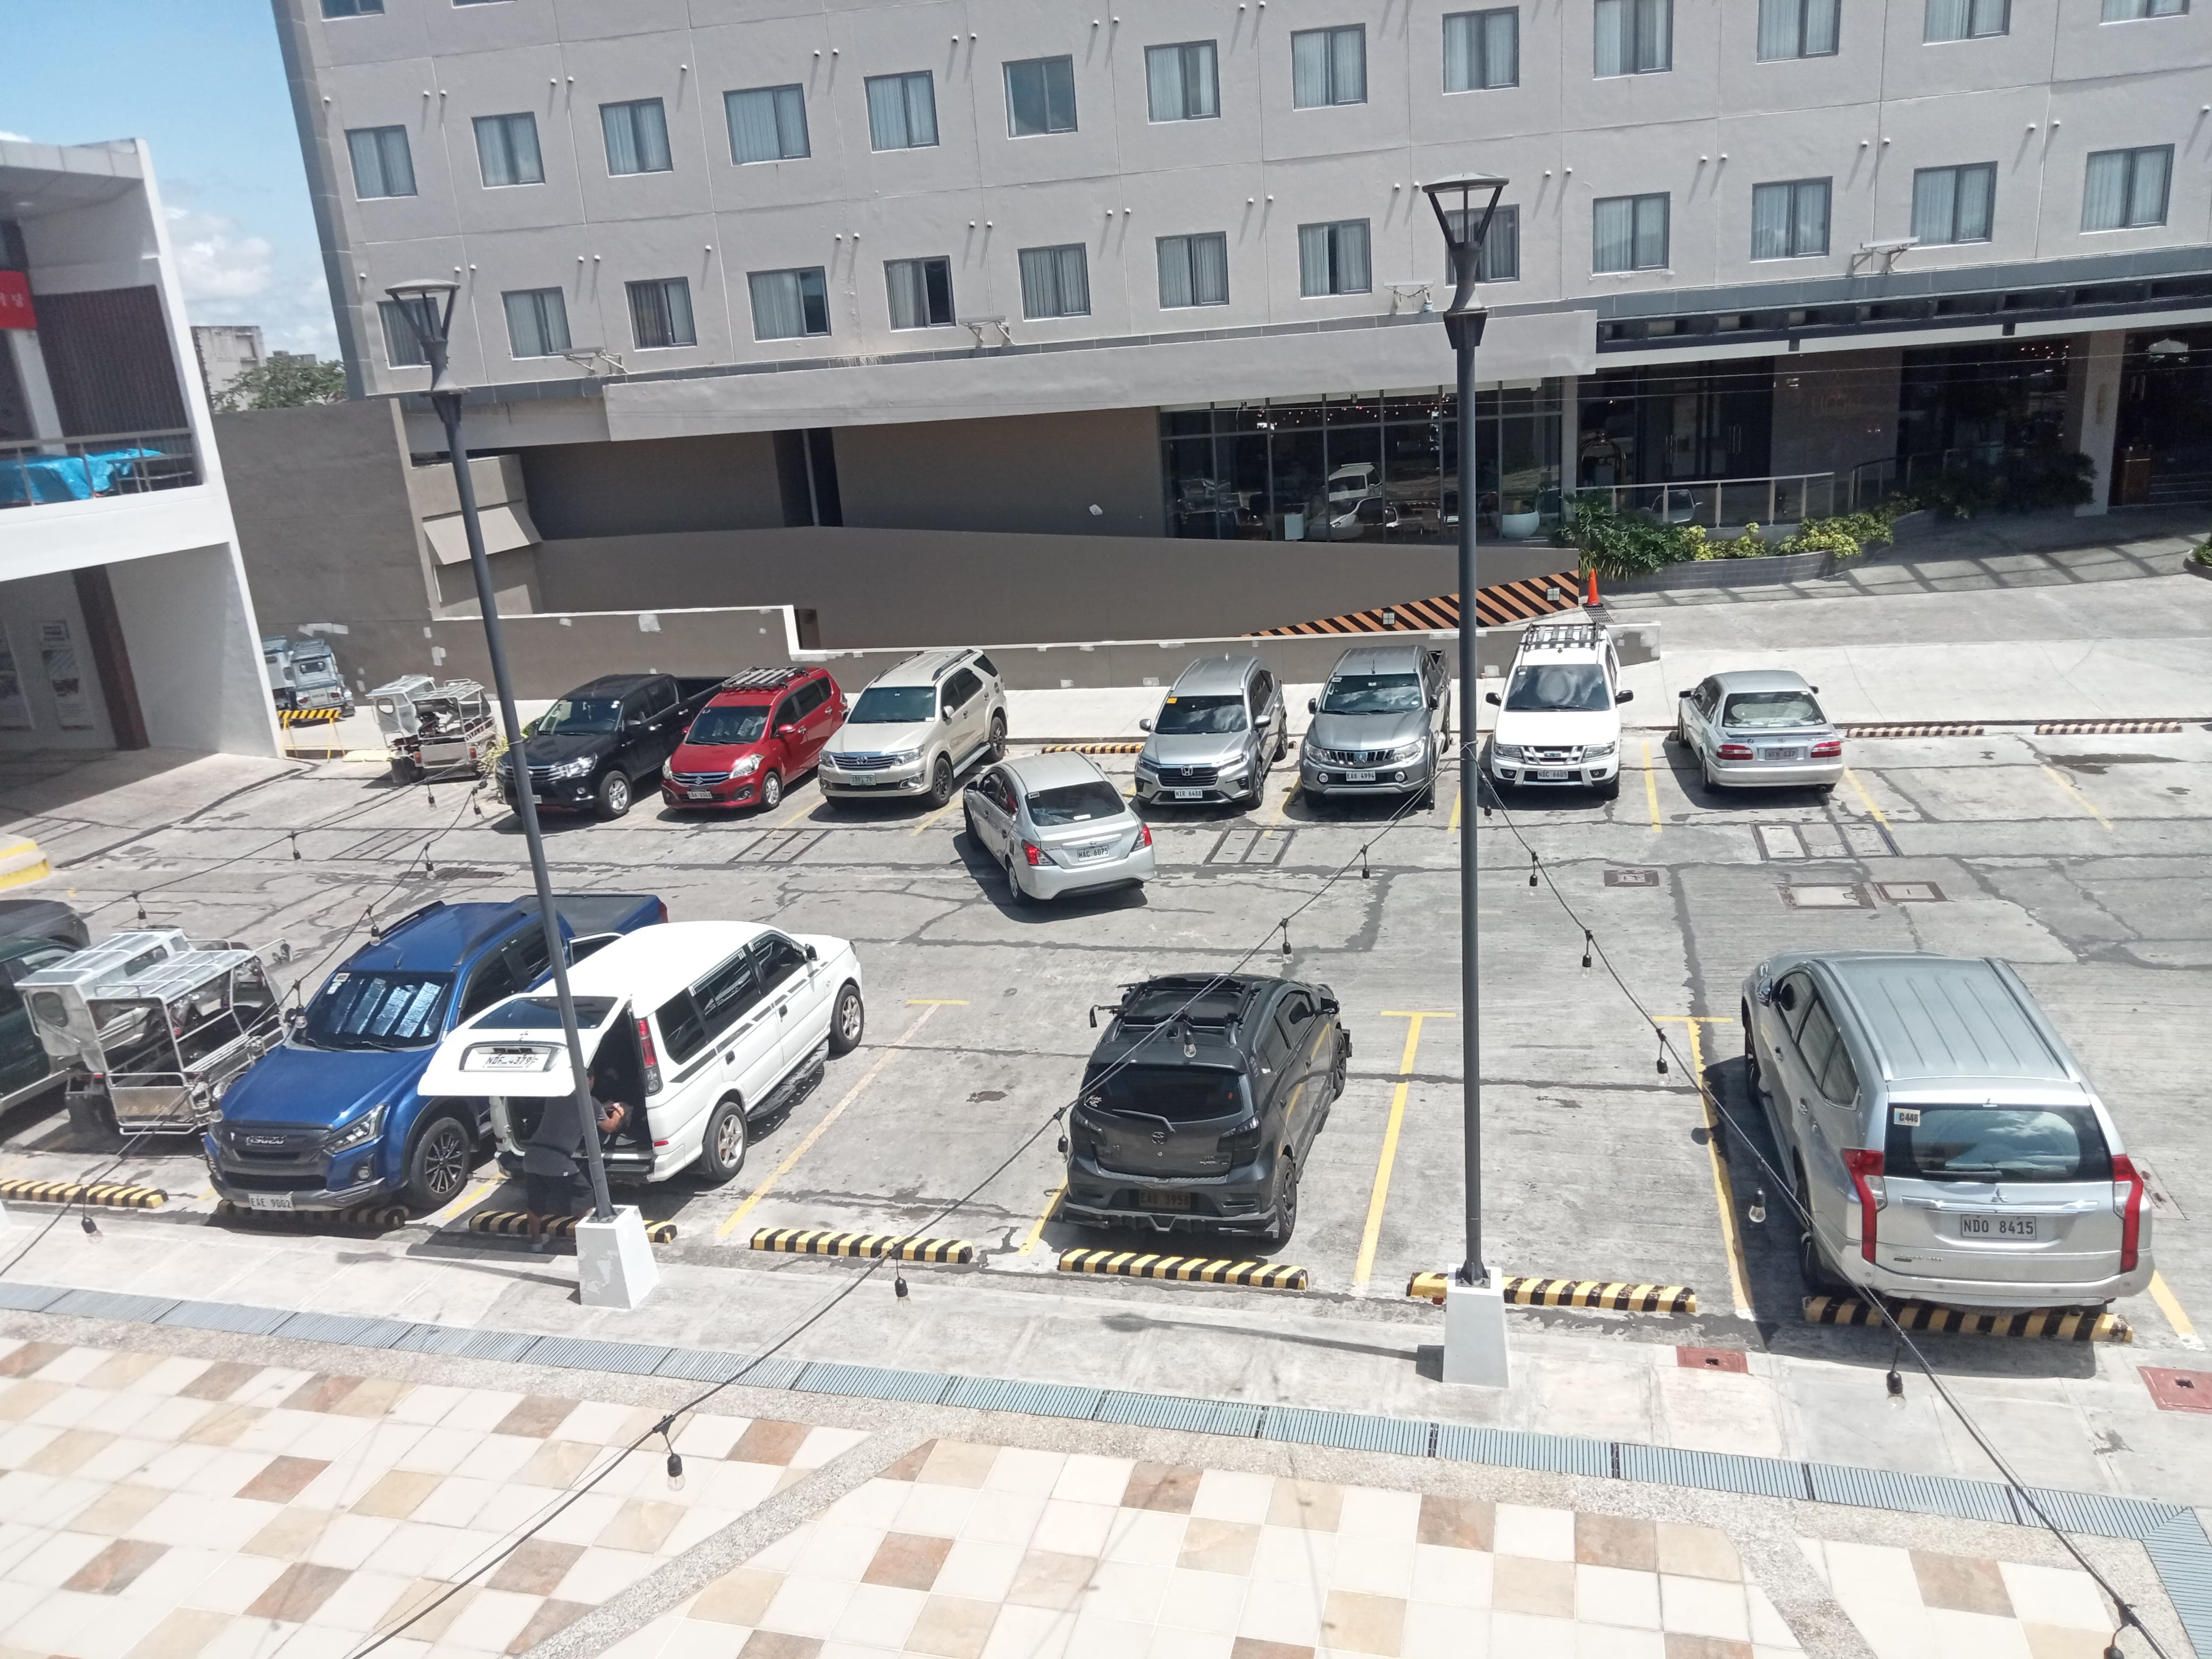occupied: (1007, 1007, 1428, 1295), (1639, 725, 1890, 833), (766, 737, 1042, 835), (1259, 732, 1480, 838), (1447, 727, 1662, 835)
vacant: (1346, 1007, 1761, 1319), (707, 1000, 1169, 1269), (1810, 718, 2114, 828)
